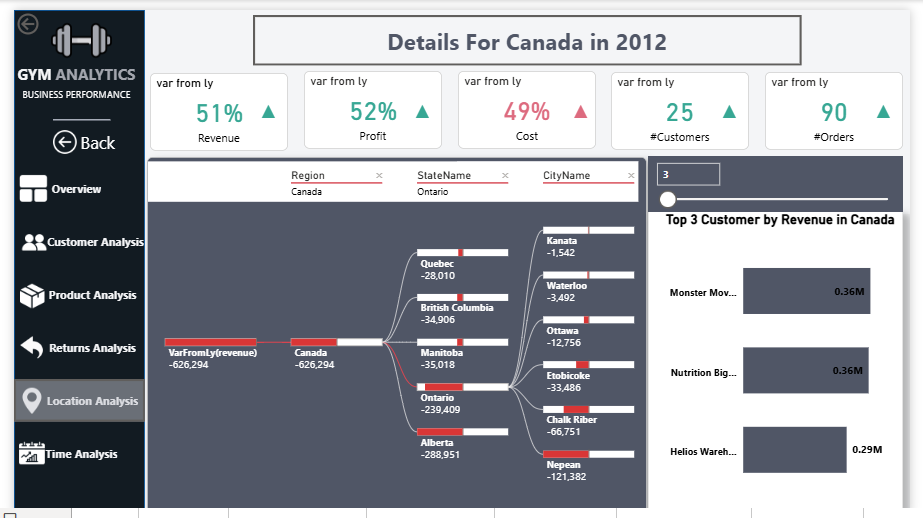

Layout of this report page (visuals, bound fields, positions):
{"tool":"powerbi","page":{"name":"Location Analysis","canvas":[1280,720],"ordinal":5},"visuals":[{"type":"shape","box":[0,0,186.8,720.6],"z":0},{"type":"image","box":[2.9,0,186.8,86.8],"z":1000},{"type":"textbox","box":[0,72.1,194.1,52.9],"z":2000},{"type":"textbox","box":[7.4,107.4,173.5,35.3],"z":3000},{"type":"actionButton","box":[38.2,311.2,155.9,39.7],"z":4000},{"type":"image","box":[55.9,169.1,33.8,39.7],"z":5000},{"type":"textbox","box":[89.3,167.2,59.5,42.5],"z":6000},{"type":"image","box":[7.4,233.8,41.2,41.2],"z":7000},{"type":"image","box":[8.8,313.2,41.2,38.2],"z":8000},{"type":"actionButton","box":[33.8,462.9,155.9,39.7],"z":9000},{"type":"image","box":[8.8,386.8,35.3,42.6],"z":10000},{"type":"actionButton","box":[33.8,387.1,155.9,39.7],"z":11000},{"type":"actionButton","box":[19.1,614.7,155.9,39.7],"z":12000},{"type":"actionButton","box":[33.8,538.8,155.9,39.7],"z":13000},{"type":"image","box":[4.4,466.2,42.6,32.4],"z":14000},{"type":"image","box":[7.4,538.2,36.8,39.7],"z":15000},{"type":"actionButton","box":[11.8,235.3,155.9,39.7],"z":16000},{"type":"shape","box":[55.9,142.6,82.4,27.9],"z":17000},{"type":"image","box":[7.4,611.8,36.8,42.6],"z":18000},{"type":"actionButton","box":[0,376.5,186.8,61.8],"z":19000},{"type":"actionButton","box":[1.5,451.5,186.8,61.8],"z":20000},{"type":"actionButton","box":[0,604.4,186.8,61.8],"z":21000},{"type":"actionButton","box":[0,225,186.8,61.8],"z":22000},{"type":"decompositionTreeVisual","fields":{"Analyze":["Calculations.VarFromLy(revenue)"],"ExplainBy":["Customer.Region","Customer.StateName","Customer.CityName"]},"box":[189.9,209.8,714.3,510.2],"z":23000},{"type":"card","title":"var from ly","fields":{"Values":["Calculations.Revenue Var From LY %(locations)"]},"box":[194.2,89.3,197,110.6],"z":24000},{"type":"card","title":"var from ly","fields":{"Values":["Calculations.Orders Var From LY"]},"box":[1073.1,88.8,197,110.6],"z":25000},{"type":"card","title":"var from ly","fields":{"Values":["Calculations.Customer Var From LY(locations)"]},"box":[853.3,88.2,197,110.6],"z":26000},{"type":"card","title":"var from ly","fields":{"Values":["Calculations.Cost Var From LY %(locations)"]},"box":[633.6,87.7,197,110.6],"z":27000},{"type":"card","title":"var from ly","fields":{"Values":["Calculations.Profit Var From LY %(locations)"]},"box":[413.9,87.2,197,110.6],"z":28000},{"type":"clusteredBarChart","fields":{"Y":["Calculations.Top Achiver(revenue)"],"Category":["Customer.Customer"]},"box":[905.7,287.7,364.3,432.3],"z":29000},{"type":"slicer","fields":{"Values":["TopN_Slicer.TopN_Slicer"]},"box":[905.7,208.3,364.3,79.4],"z":30000},{"type":"actionButton","box":[341.6,7.1,783.8,72.3],"z":31000},{"type":"actionButton","box":[0,527.2,187.1,60.9],"z":32000},{"type":"actionButton","box":[0,0,100,40],"z":33000},{"type":"card","fields":{"Values":["Calculations.Arrow(Revenue)"]},"box":[335.9,119.1,55.3,52.4],"z":34000},{"type":"card","fields":{"Values":["Calculations.Arrow(profit)"]},"box":[555.6,119.1,55.3,52.4],"z":35000},{"type":"card","fields":{"Values":["Calculations.Arrow(#customer)"]},"box":[995,119.1,55.3,52.4],"z":36000},{"type":"card","fields":{"Values":["Calculations.Arrow(#orders)"]},"box":[1214.6,119.1,55.3,52.4],"z":37000},{"type":"actionButton","box":[0,300.5,187.1,60.9],"z":38000},{"type":"card","fields":{"Values":["Calculations.Arrow(cost)"]},"box":[786.6,120.5,43.9,49.6],"z":39000},{"type":"actionButton","box":[48.2,167.2,100.6,42.5],"z":40000}]}

Visuals, with their boxes on the page's 1280x720 design canvas (x1, y1, x2, y2). These are canvas units, not pixel positions in the 923x518 screenshot, which may show the page scaled, cropped or inside an application window:
shape: 0 0 187 721
image: 3 0 190 87
textbox: 0 72 194 125
textbox: 7 107 181 143
actionButton: 38 311 194 351
image: 56 169 90 209
textbox: 89 167 149 210
image: 7 234 49 275
image: 9 313 50 351
actionButton: 34 463 190 503
image: 9 387 44 429
actionButton: 34 387 190 427
actionButton: 19 615 175 654
actionButton: 34 539 190 578
image: 4 466 47 499
image: 7 538 44 578
actionButton: 12 235 168 275
shape: 56 143 138 170
image: 7 612 44 654
actionButton: 0 376 187 438
actionButton: 2 452 188 513
actionButton: 0 604 187 666
actionButton: 0 225 187 287
decompositionTreeVisual - Calculations.VarFromLy(revenue) x Customer.Region: 190 210 904 720
"var from ly" card: 194 89 391 200
"var from ly" card: 1073 89 1270 199
"var from ly" card: 853 88 1050 199
"var from ly" card: 634 88 831 198
"var from ly" card: 414 87 611 198
clusteredBarChart - Calculations.Top Achiver(revenue) x Customer.Customer: 906 288 1270 720
slicer - TopN_Slicer.TopN_Slicer: 906 208 1270 288
actionButton: 342 7 1125 79
actionButton: 0 527 187 588
actionButton: 0 0 100 40
card - Calculations.Arrow(Revenue): 336 119 391 172
card - Calculations.Arrow(profit): 556 119 611 172
card - Calculations.Arrow(#customer): 995 119 1050 172
card - Calculations.Arrow(#orders): 1215 119 1270 172
actionButton: 0 300 187 361
card - Calculations.Arrow(cost): 787 120 830 170
actionButton: 48 167 149 210
